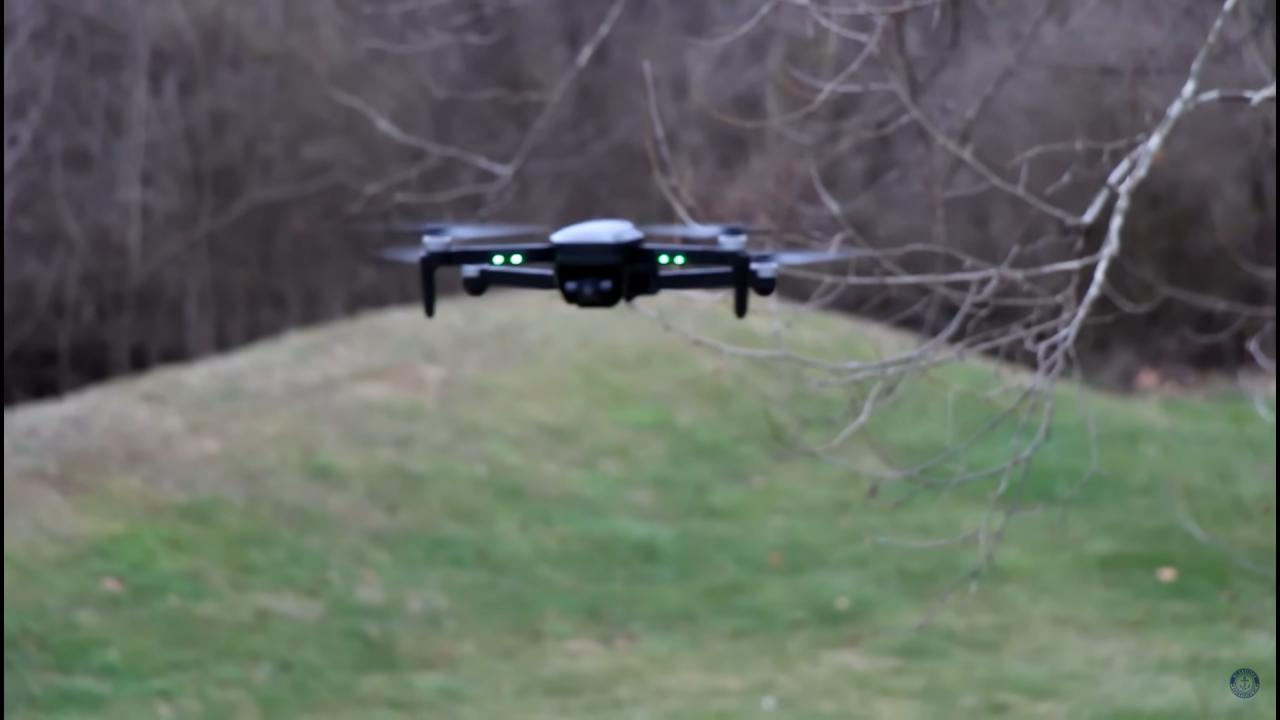Drone: (333, 195, 893, 326)
